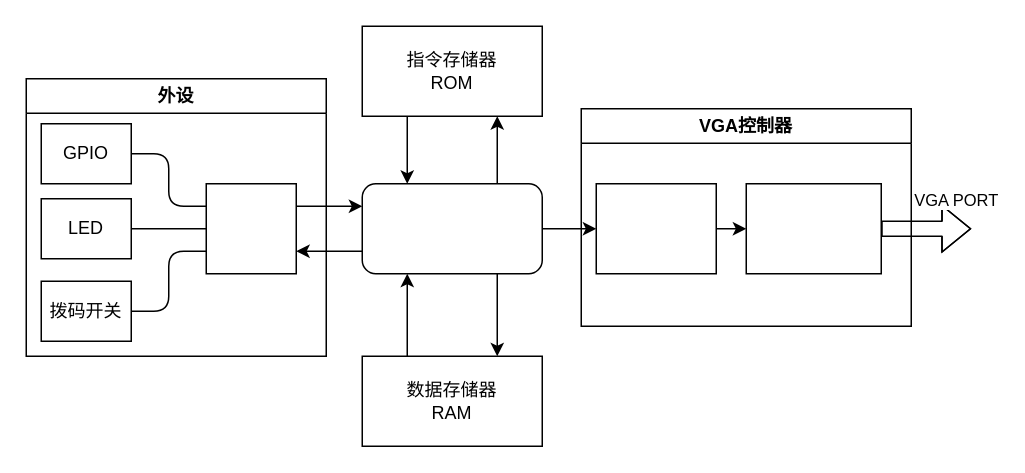
The diagram is 1025 pixels wide and 473 high, and some of its shapes have lost their labels. The shapes that lost their labels are listed below. From the top down, each one's centre as x and y in pixels, then its label:
pixel 250 228: 寄存器
pixel 451 228: RISC-V CPU
pixel 655 228: 显存
pixel 813 228: VGA编码器
